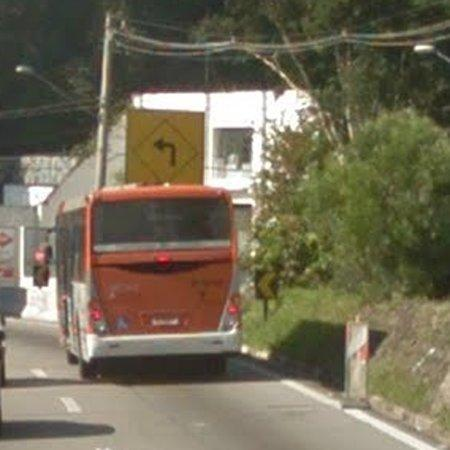buses: (56, 185, 240, 372)
